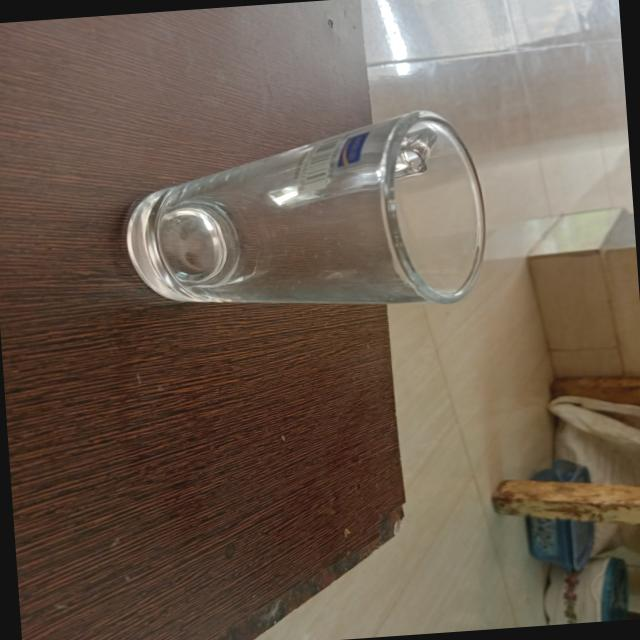glass-VX4N: (112, 102, 490, 328)
